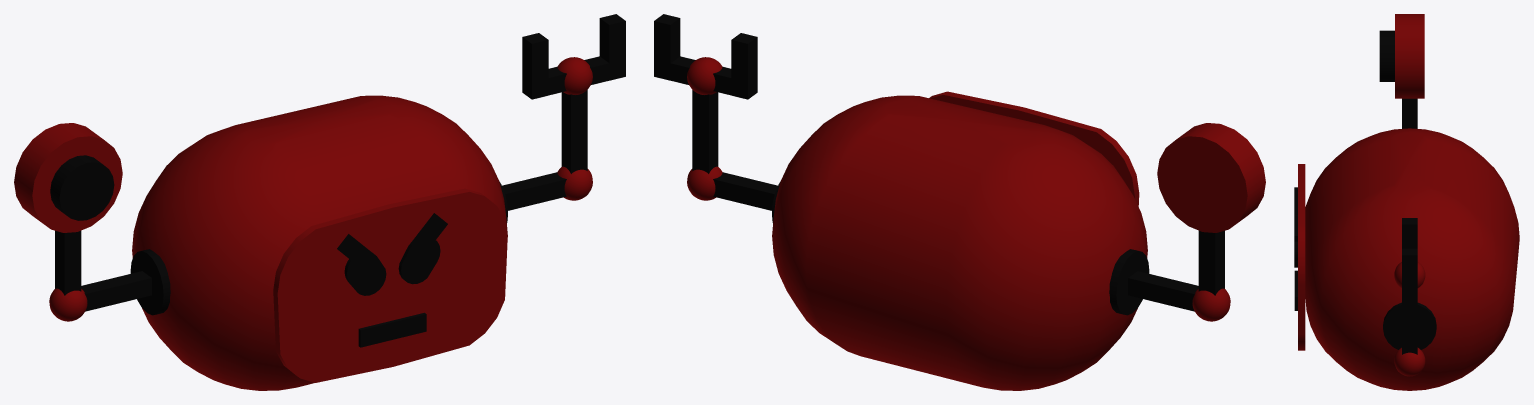
The model's file is Boss 2.0.fbx.
The picture shows the model from 3 angles, left to right: view 1: azimuth 30°, elevation 25°; view 2: azimuth 150°, elevation 25°; view 3: azimuth 270°, elevation 25°; orthographic projection. The views are drawn at different scales.
Parts seen in each view (by area): view 1: pSphere7; view 2: pSphere7; view 3: pSphere7.
Part boxes in pixels (x1,y1,x2,y2): pSphere7: (14,14,625,390); pSphere7: (654,14,1265,390); pSphere7: (1294,14,1519,390).
Size of the model in its own units: 36.01 by 17.04 by 14.43.
